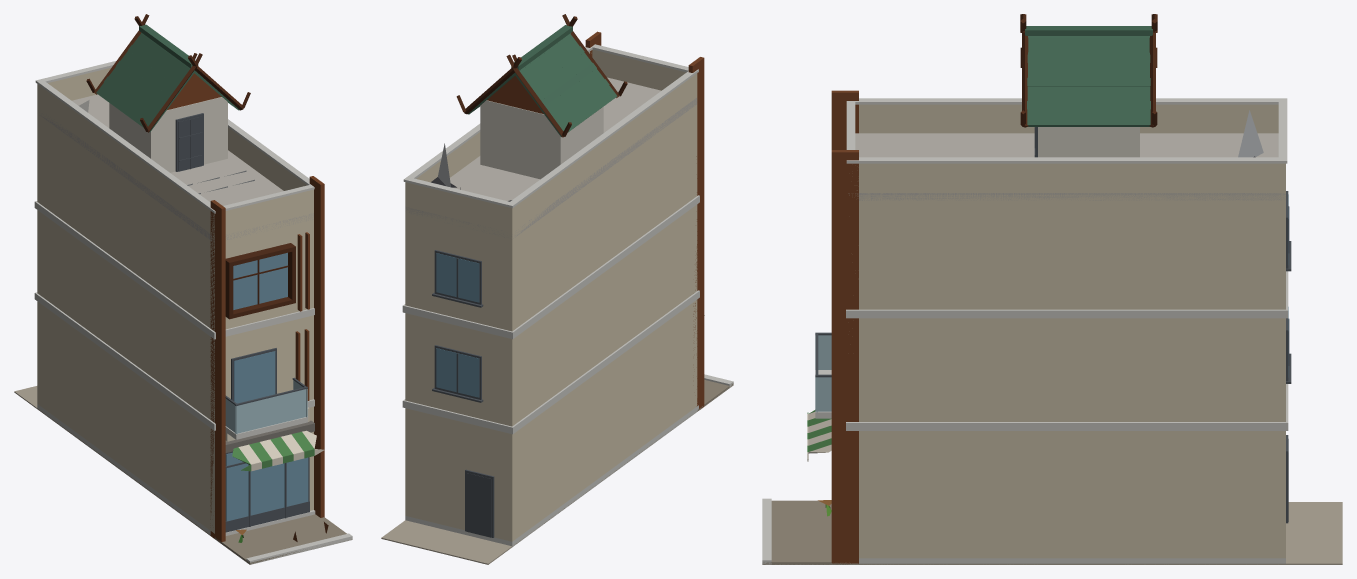
The model's file is bay1_mid2.glb.
The picture shows the model from 3 angles, left to right: view 1: azimuth 30°, elevation 25°; view 2: azimuth 150°, elevation 25°; view 3: azimuth 270°, elevation 25°; orthographic projection. The views are drawn at different scales.
Parts seen in each view (by area): view 1: body; view 2: body; view 3: body.
Boxes of the visible parts, x1,y1,x2,y2 form: body: [14, 14, 352, 564]; body: [381, 14, 733, 564]; body: [762, 14, 1342, 564].
Size of the model in its own units: 4.33 by 16.03 by 15.9.
